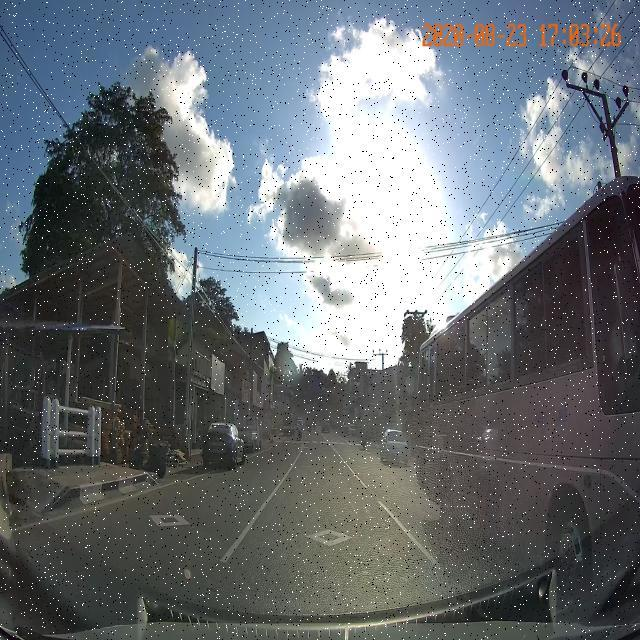diamond: (214, 498, 445, 565)
